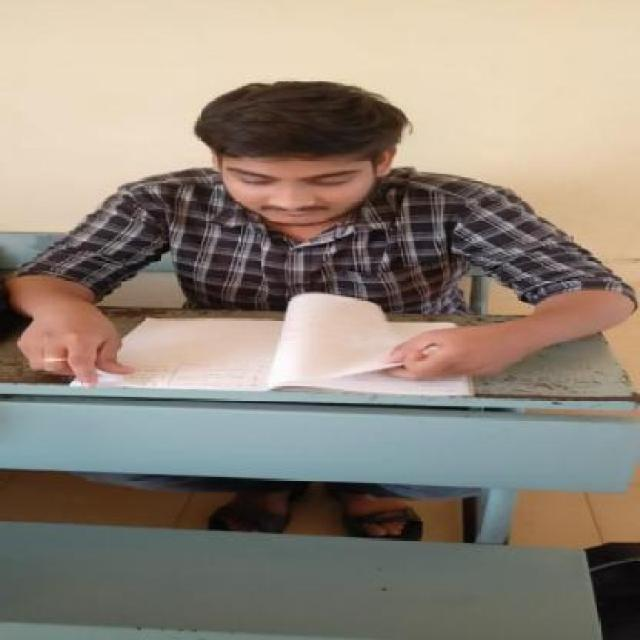good: (6, 76, 636, 406)
